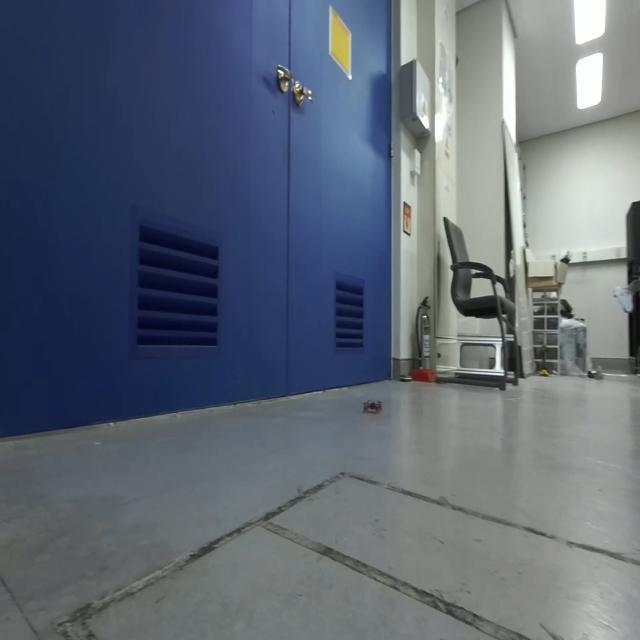crazyflie: (359, 392, 386, 420)
